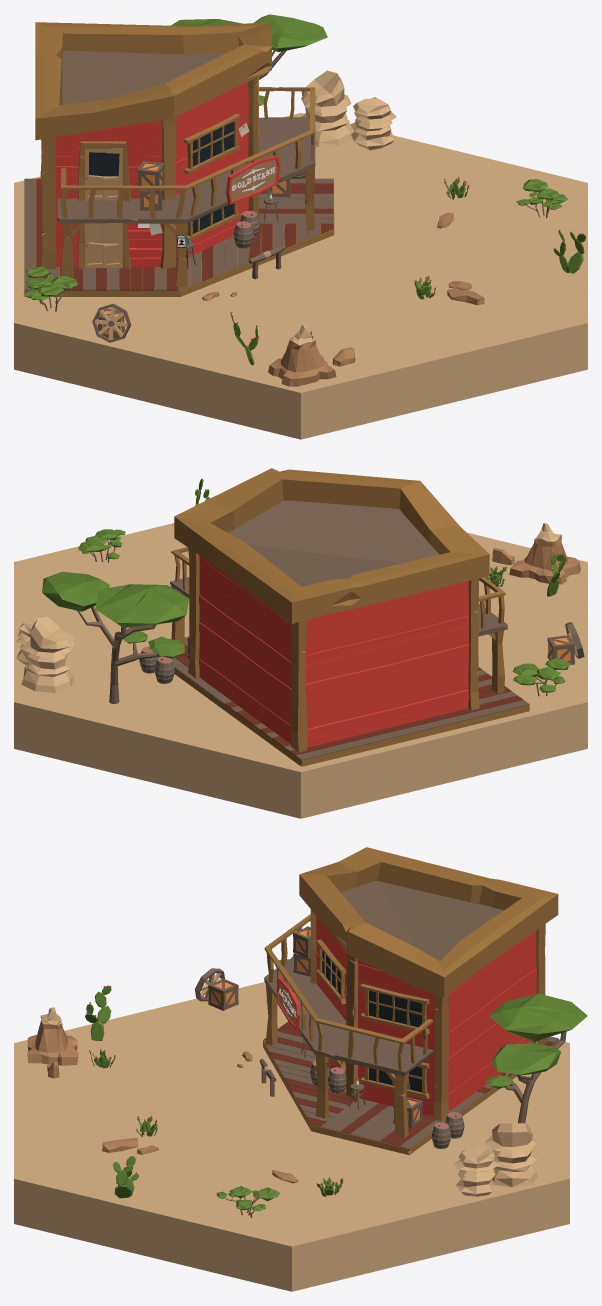
File: Tile_22.fbx
3 renders of one model, top to bottom at view 1: azimuth 30°, elevation 25°; view 2: azimuth 150°, elevation 25°; view 3: azimuth 270°, elevation 25°, orthographic. The views are drawn at different scales.
Parts seen in each view (by area): view 1: Tile_22_Base, Tile_22_Gold_Stash_Building, Tile_22, Tile_22_Platform, Tile_22_Tree, Tile_22_Sighnboard_Gold_Stash, Tile_22_wheel; view 2: Tile_22_Gold_Stash_Building, Tile_22_Base, Tile_22, Tile_22_Tree, Tile_22_Platform; view 3: Tile_22_Base, Tile_22_Gold_Stash_Building, Tile_22, Tile_22_Platform, Tile_22_Tree, Tile_22_Sighnboard_Gold_Stash.
Boxes of the visible parts, left/top/right/bottom form: Tile_22_Base: left=14, top=113, right=587, bottom=439; Tile_22_Gold_Stash_Building: left=35, top=22, right=315, bottom=286; Tile_22: left=23, top=70, right=585, bottom=386; Tile_22_Platform: left=24, top=178, right=334, bottom=296; Tile_22_Tree: left=171, top=14, right=327, bottom=105; Tile_22_Sighnboard_Gold_Stash: left=226, top=155, right=280, bottom=204; Tile_22_wheel: left=92, top=303, right=131, bottom=342; Tile_22_Gold_Stash_Building: left=170, top=468, right=507, bottom=752; Tile_22_Base: left=14, top=523, right=587, bottom=818; Tile_22: left=15, top=478, right=580, bottom=696; Tile_22_Tree: left=42, top=572, right=188, bottom=703; Tile_22_Platform: left=159, top=636, right=529, bottom=766; Tile_22_Base: left=14, top=982, right=569, bottom=1291; Tile_22_Gold_Stash_Building: left=264, top=847, right=558, bottom=1137; Tile_22: left=27, top=926, right=538, bottom=1217; Tile_22_Platform: left=263, top=1021, right=559, bottom=1155; Tile_22_Tree: left=485, top=993, right=587, bottom=1123; Tile_22_Sighnboard_Gold_Stash: left=276, top=976, right=300, bottom=1030.
Size of the model in its own units: 2318 by 2072 by 895.
